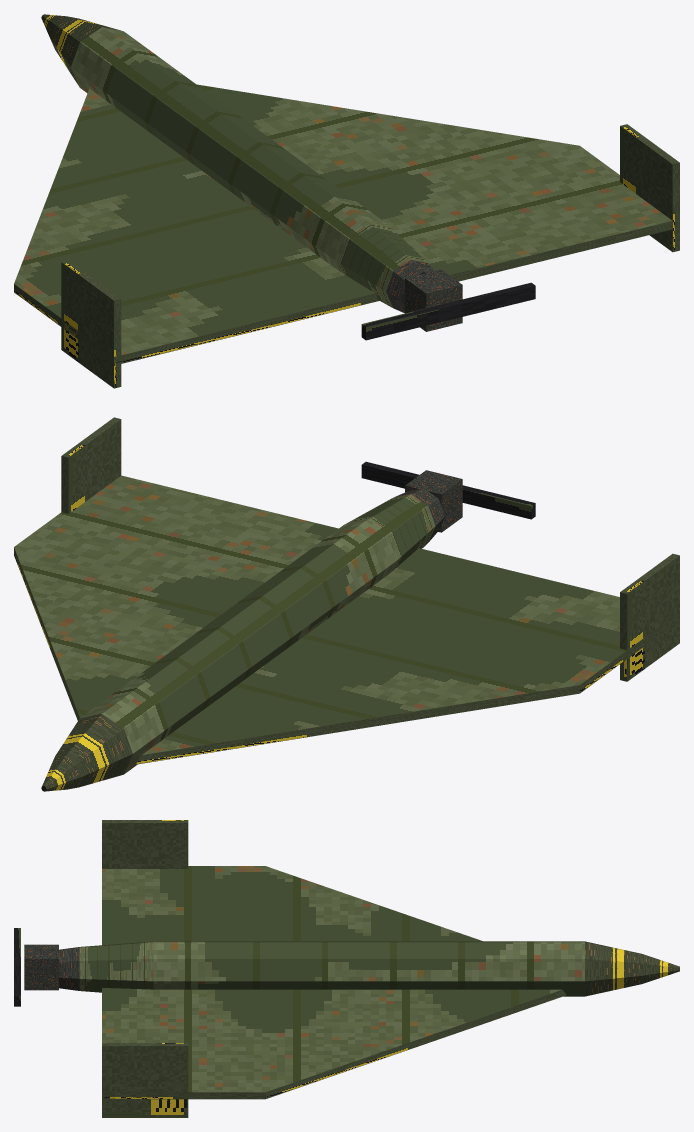
Rendered from shahed_149.glb.
3 views of the same model, one above another, from view 1: azimuth 30°, elevation 25°; view 2: azimuth 150°, elevation 25°; view 3: azimuth 270°, elevation 25° (orthographic). The views are drawn at different scales.
Visible parts, largest first — view 1: airframe, prop1; view 2: airframe, prop1; view 3: airframe, prop1.
Boxes of the visible parts, x1,y1,x2,y2 form: airframe: (14, 14, 679, 388); prop1: (361, 282, 535, 340); airframe: (14, 417, 679, 791); prop1: (361, 461, 535, 519); airframe: (24, 820, 679, 1117); prop1: (14, 928, 20, 1006).
Size of the model in its own units: 3.1 by 0.46 by 3.86.
Materials: 1 (1 with a texture image).
